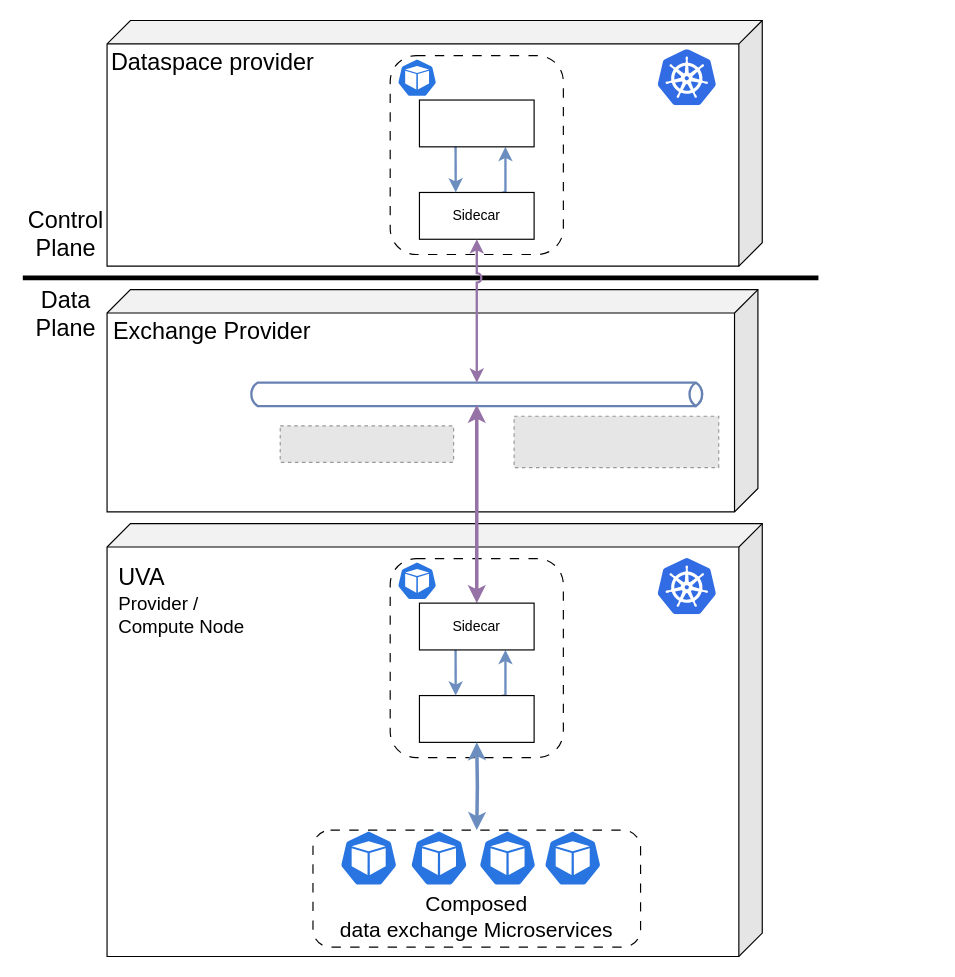
Some shapes in this 955 by 977 pixel diagram are drawn without their labels. Grey dashed boxes stand in for pictures. The centre of each missing label's shape, as x and y in pixels:
Distributed Agent: (x=476, y=718)
Process Orchestrator: (x=476, y=123)
